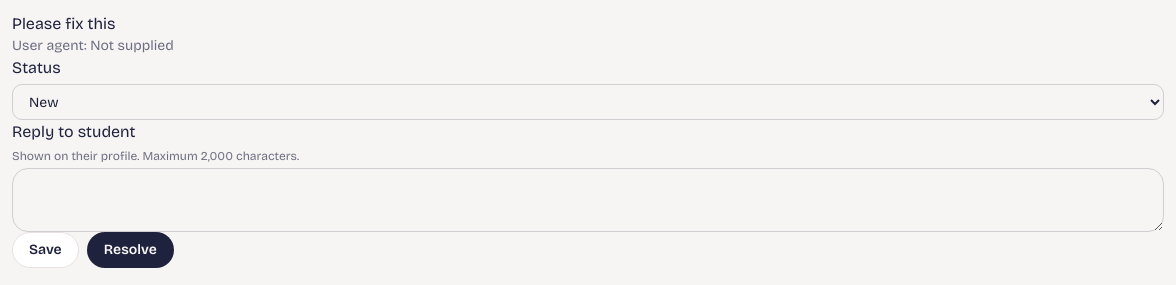
Test case: uses the server's restored snapshot after successful undo
The width and height of the screenshot is (1176, 285).
Type "Reply B" into the text box labelled "Reply to student" at (588, 200), box [12,168,1164,232]
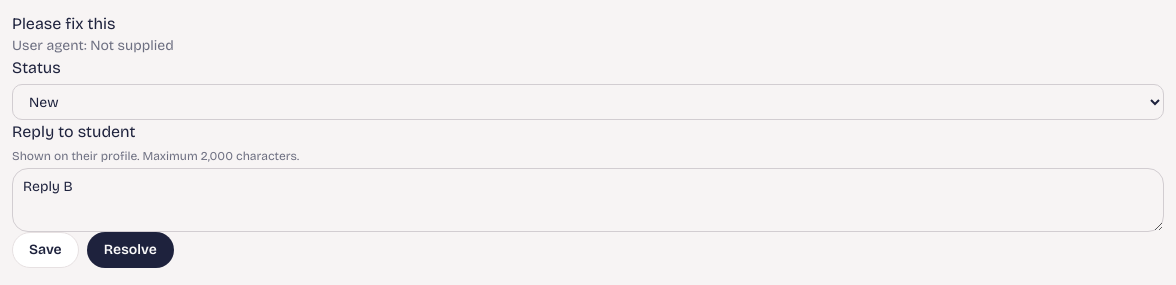
Click the button "Save" at (45, 250), box [12,232,79,268]
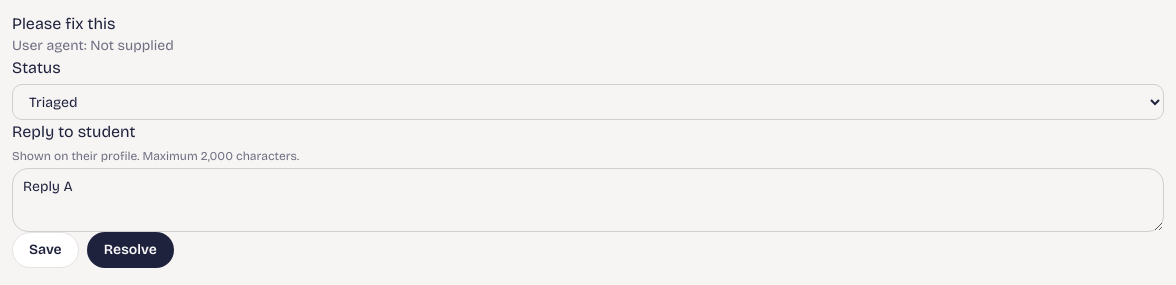
Check: the text box labelled "Reply to student" holds "Reply A", box [12,168,1164,232]
Check: the dropdown labelled "Status" shows "Triaged", box [12,84,1164,120]
